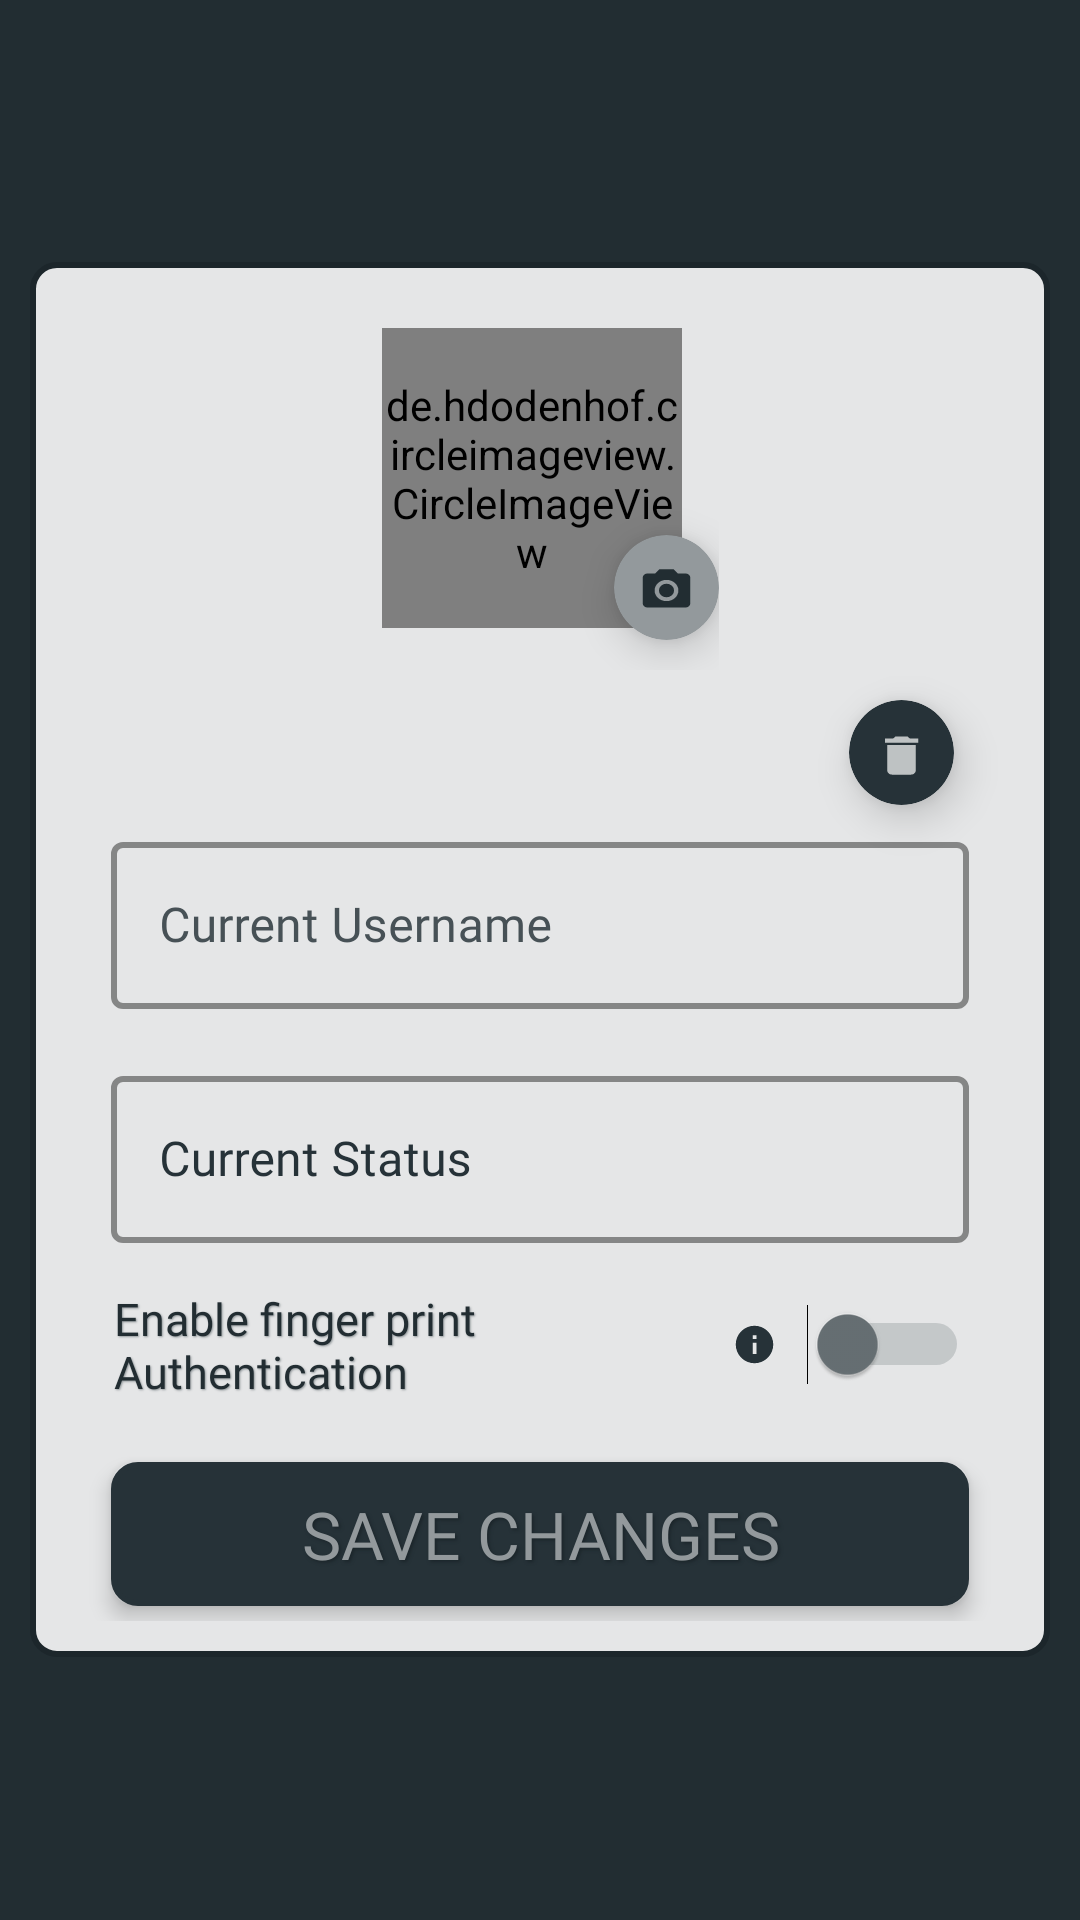

Point at icon controls on the screen. Image size 1080x1920, points as (x=x, y=y).
camera: (x=666, y=588)
delete: (x=902, y=755)
info: (x=754, y=1344)
